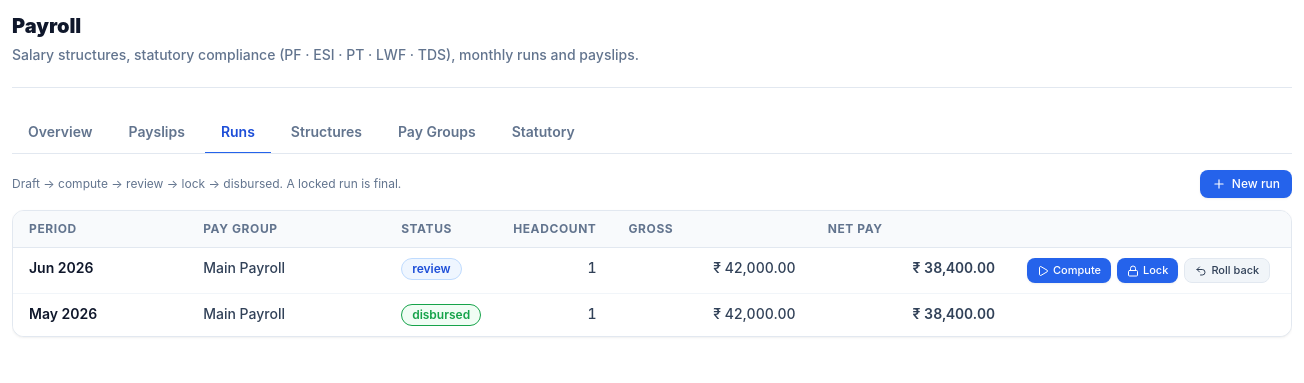
runs › surfaces a rejected transition rather than failing silently
The width and height of the screenshot is (1304, 383).
What coordinates should you click on to do the following:
click the button "Compute"
I would click on:
 (1069, 271)
Its box is [1027, 258, 1111, 284].
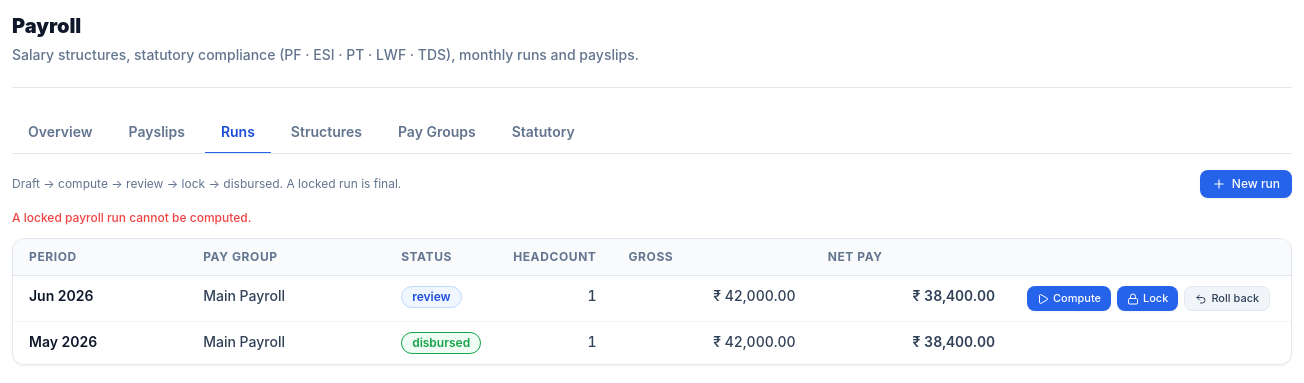
Expected: the text "A locked payroll run cannot be computed." is shown, [12, 210, 251, 225]
